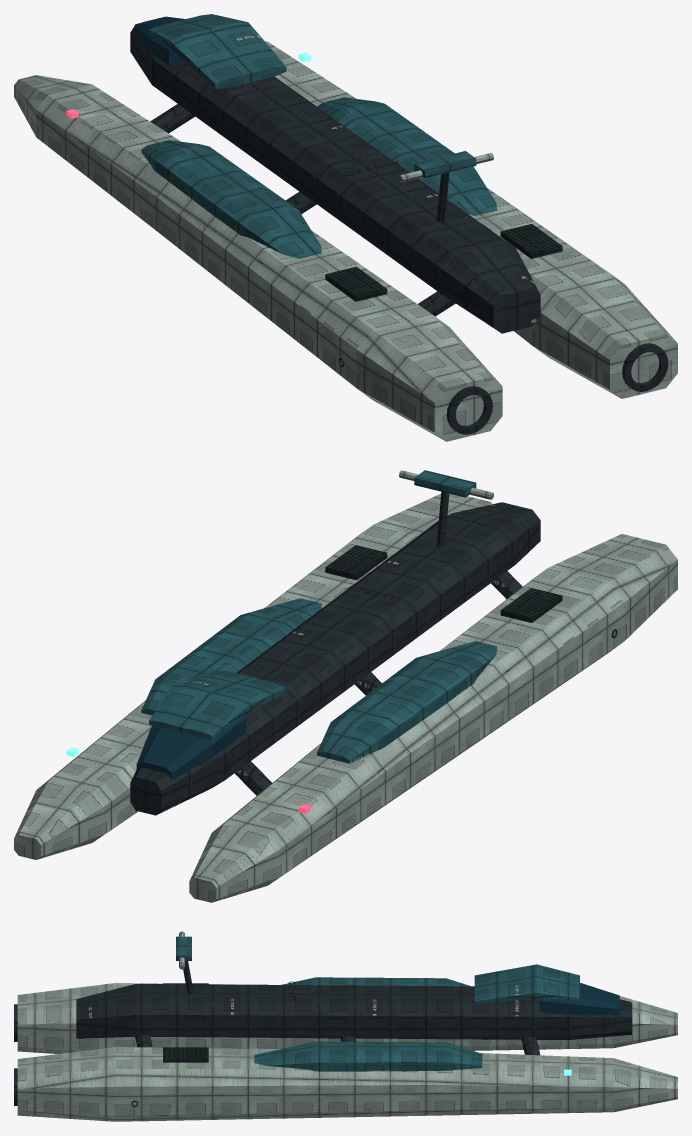
Rendered from ship_osprey.glb.
3 views of the same model, one above another, from view 1: azimuth 30°, elevation 25°; view 2: azimuth 150°, elevation 25°; view 3: azimuth 270°, elevation 25° (orthographic). The views are drawn at different scales.
Visible parts, largest first — view 1: Cream, Frame, Teal, Thermal, Glass; view 2: Cream, Frame, Teal, Glass, Thermal; view 3: Cream, Frame, Teal, Glass, Thermal.
Part boxes in pixels (box(x1,y1,x2,y2)): Cream: box(14, 41, 677, 441); Frame: box(130, 22, 668, 434); Teal: box(141, 14, 497, 258); Thermal: box(325, 224, 562, 301); Glass: box(136, 16, 185, 66); Cream: box(14, 470, 677, 902); Frame: box(130, 491, 617, 815); Teal: box(141, 470, 497, 763); Glass: box(136, 716, 246, 779); Thermal: box(325, 545, 562, 622); Cream: box(17, 931, 677, 1121); Frame: box(14, 961, 632, 1107); Teal: box(176, 936, 579, 1071); Glass: box(539, 983, 619, 1015); Thermal: box(163, 983, 208, 1062).
Bounding box in the file's own units: 10.4 × 6.57 × 29.17.
Materials: 8 (6 with a texture image).
